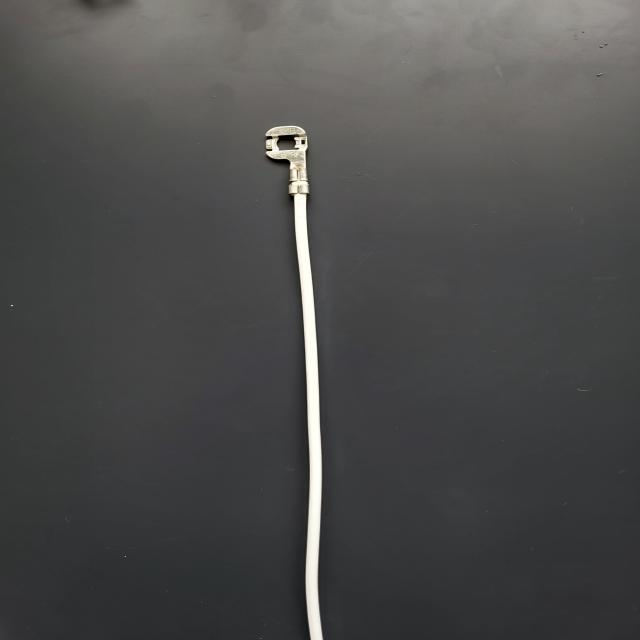good: (4, 0, 632, 636)
